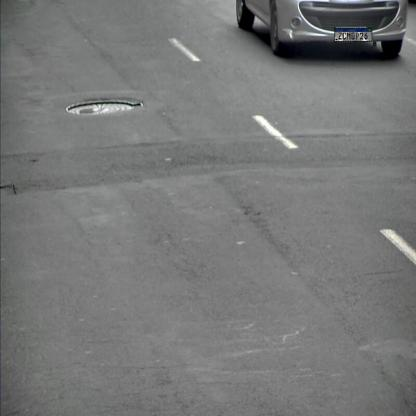PlacaM: (335, 28, 372, 42)
